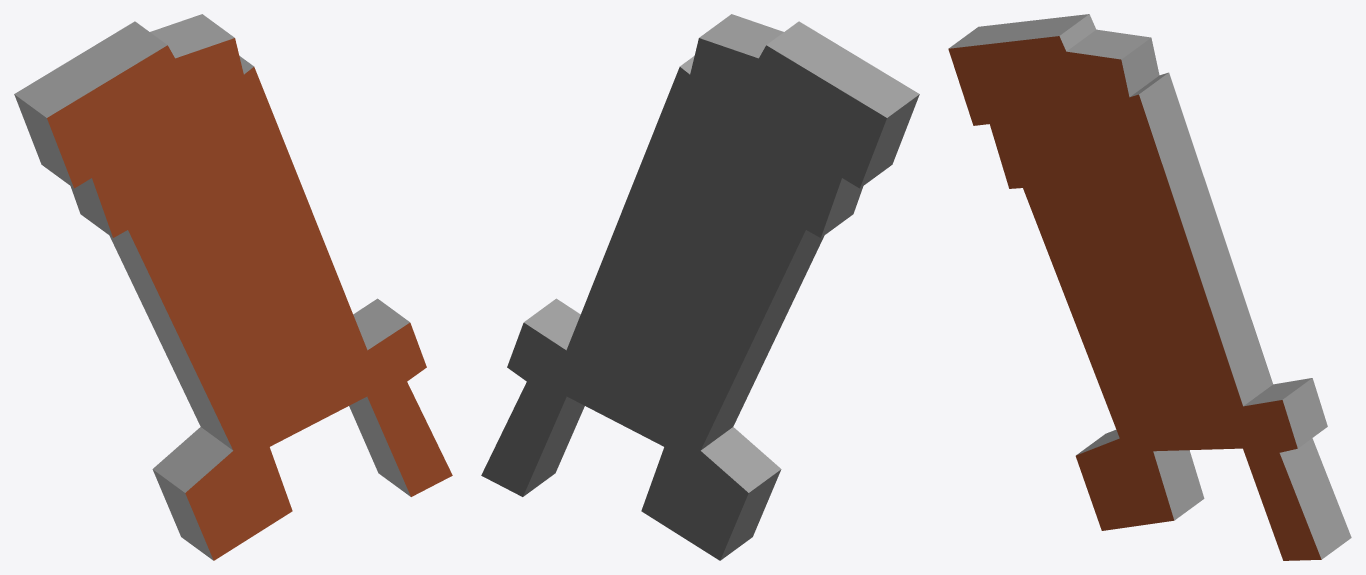
Rendered from construction_1587_assumed_A_Casa_h6m.obj.
3 renders of one model, left to right at view 1: azimuth 30°, elevation 25°; view 2: azimuth 150°, elevation 25°; view 3: azimuth 330°, elevation 25°, orthographic. The views are drawn at different scales.
Visible parts, largest first — view 1: construction_1587_assumed_A_Casa; view 2: construction_1587_assumed_A_Casa; view 3: construction_1587_assumed_A_Casa.
Part boxes in pixels (x1,y1,x2,y2): construction_1587_assumed_A_Casa: (14,14,452,560); construction_1587_assumed_A_Casa: (481,14,919,560); construction_1587_assumed_A_Casa: (948,14,1351,560).
Bounding box in the file's own units: 43 × 53.34 × 6.
